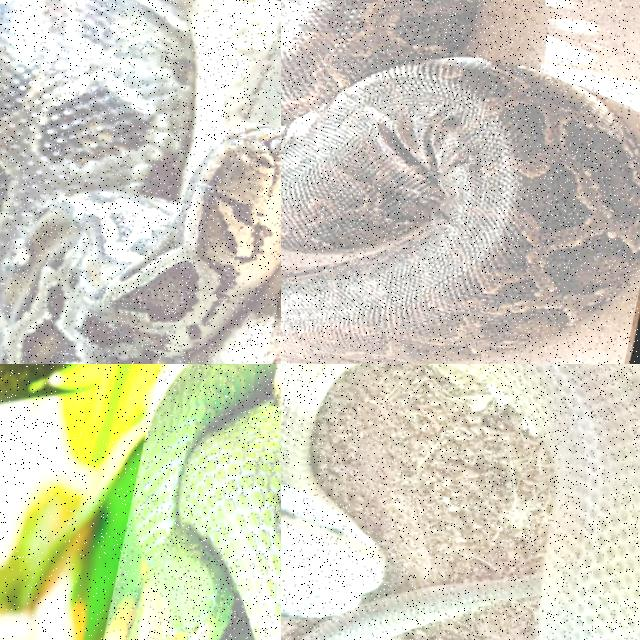Naja siamensis: (281, 364, 639, 639)
Python bivittatus: (281, 0, 639, 363), (0, 0, 280, 363)
Trimeresurus macrops: (129, 364, 280, 639)
snake: (281, 0, 639, 363), (0, 0, 280, 363), (281, 364, 639, 639), (129, 364, 280, 639)
